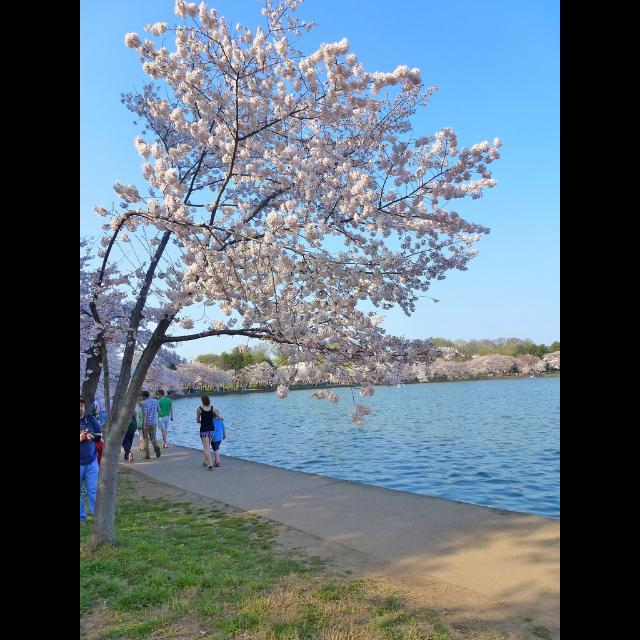Flower: (80, 1, 504, 433)
